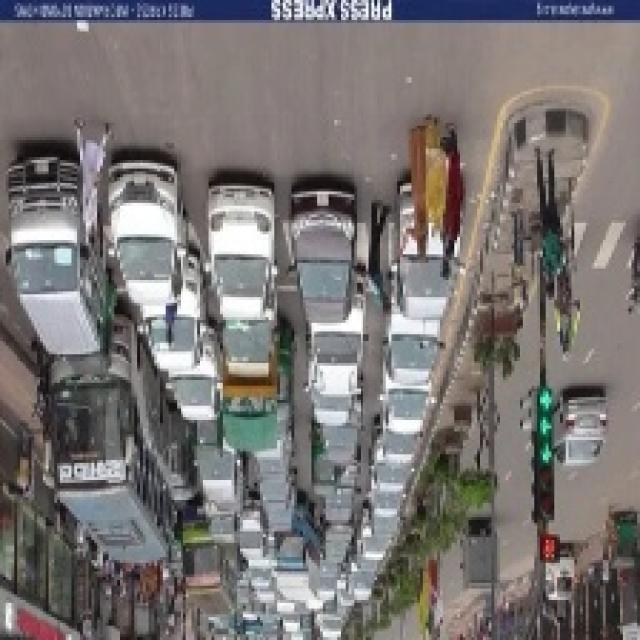car: (6, 151, 107, 340), (107, 151, 187, 307), (285, 181, 361, 316), (206, 175, 275, 319), (392, 206, 458, 311), (143, 274, 203, 366), (308, 304, 364, 402), (380, 304, 444, 387), (549, 386, 606, 474), (166, 344, 222, 421), (380, 379, 436, 437), (316, 404, 363, 463), (233, 505, 272, 569), (370, 427, 406, 496), (358, 505, 395, 562), (542, 547, 578, 605), (321, 517, 354, 572)
